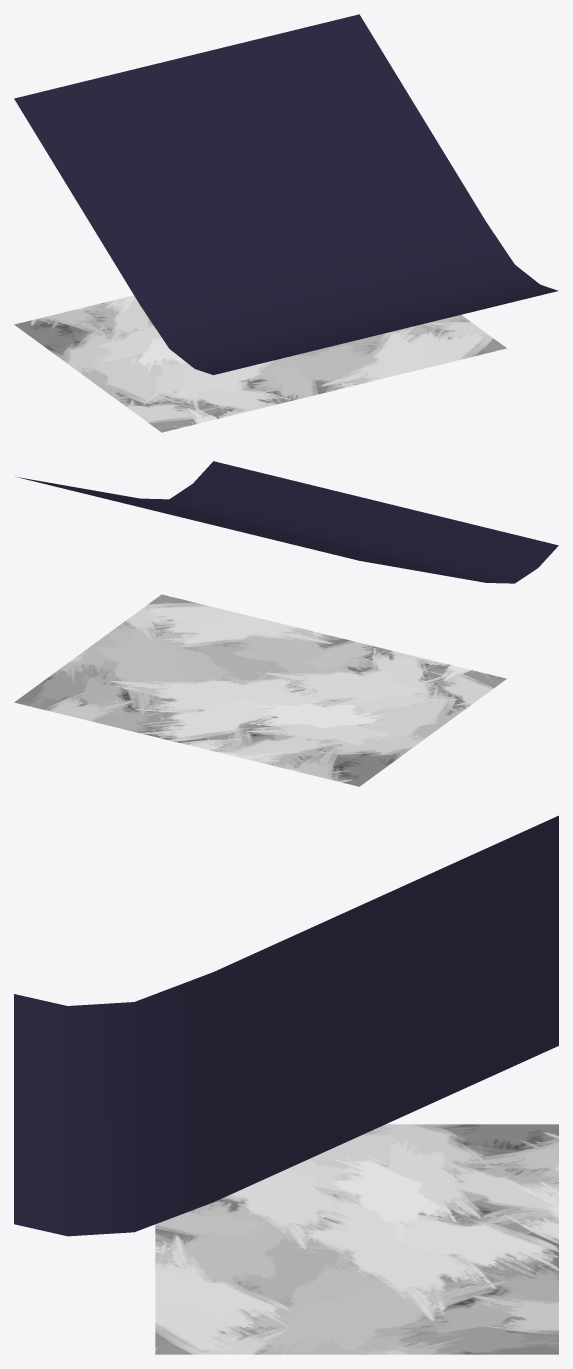
Rendered from BRoofPanel_C.fbx.
3 renders of one model, top to bottom at view 1: azimuth 30°, elevation 25°; view 2: azimuth 150°, elevation 25°; view 3: azimuth 270°, elevation 25°, orthographic. The views are drawn at different scales.
Visible parts, largest first — view 1: BRoofPannel_C; view 2: BRoofPannel_C; view 3: BRoofPannel_C.
Part boxes in pixels (x1,y1,x2,y2): BRoofPannel_C: (14, 14, 558, 432); BRoofPannel_C: (14, 461, 558, 786); BRoofPannel_C: (14, 815, 558, 1354).
Size of the model in its own units: 401 by 250 by 400.
